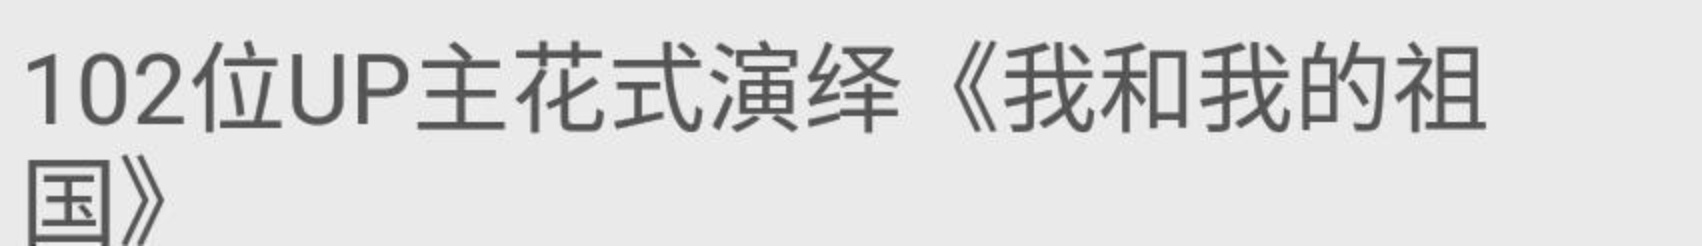TextView: (1, 1, 1701, 245)
